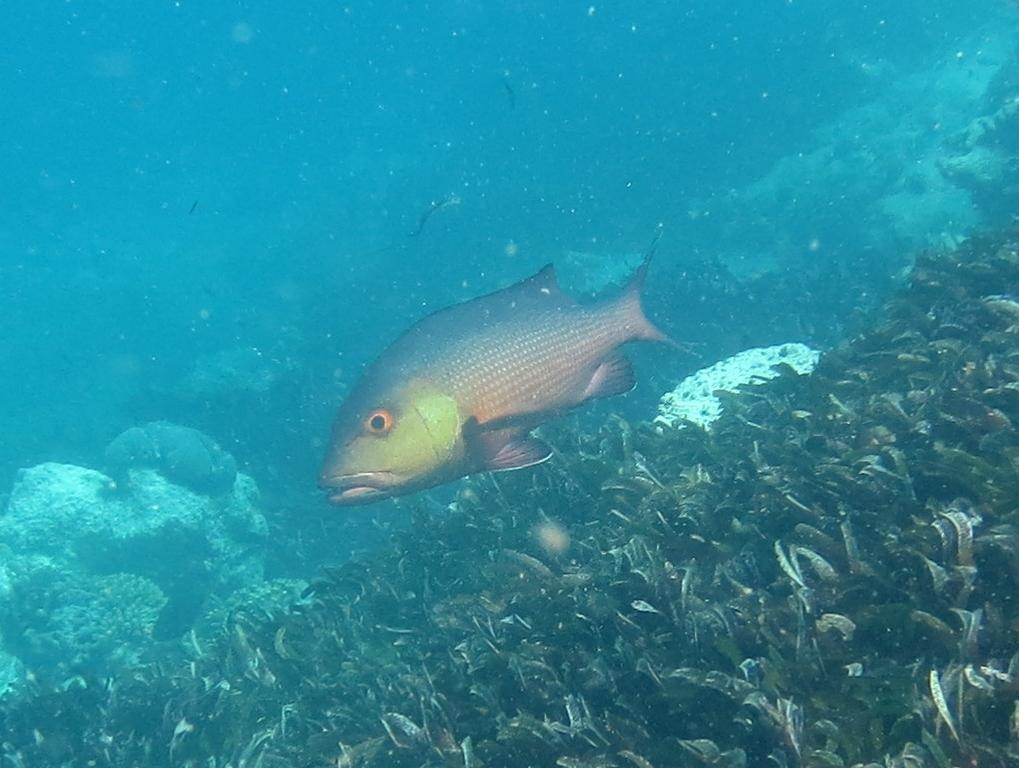Fish: (309, 239, 706, 520)
